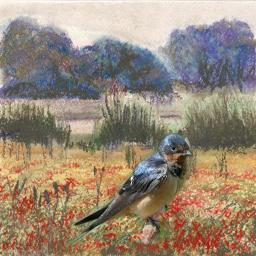Swallow: (66, 133, 193, 249)
